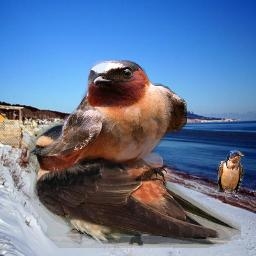Swallow: (28, 121, 241, 248), (41, 60, 187, 182), (217, 150, 245, 198)
